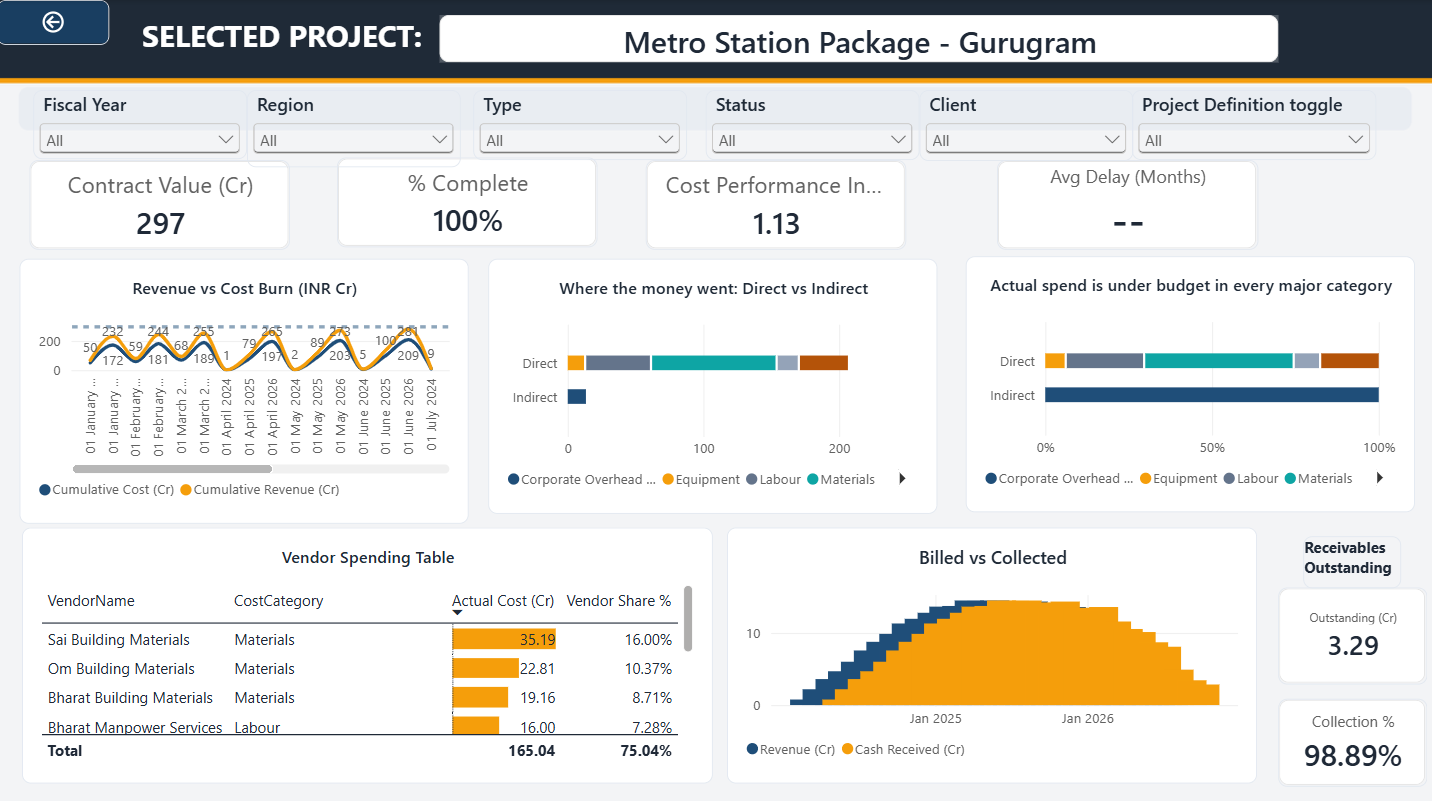

The dashboard page shown, as its layout file describes it:
{"tool":"powerbi","page":{"name":"Project Drill-through","canvas":[1280,720],"ordinal":1},"visuals":[{"type":"cardVisual","fields":{"Data":["_Measures.% Complete"]},"box":[302.5,140,232,80],"z":0},{"type":"cardVisual","fields":{"Data":["_Measures.Contract Value (Cr)"]},"box":[29,142,232,80],"z":1000},{"type":"cardVisual","fields":{"Data":["_Measures.Cost Performance Index"]},"box":[577.5,142.5,232,80],"z":2000},{"type":"cardVisual","fields":{"Data":["_Measures.Avg Delay (Months)"]},"box":[1492.7,126.9,295,80],"z":3000},{"type":"barChart","title":"Where the money went: Direct vs Indirect","fields":{"Category":["DimCostCategory.CostType"],"Series":["DimCostCategory.CostCategory"],"Y":["_Measures.Actual Cost (Cr)"]},"box":[438,230,400,227],"z":4000},{"type":"lineChart","title":"Revenue vs Cost Burn (INR Cr)","fields":{"Category":["DimDate.YearMonth"],"Y":["_Measures.Cumulative Cost (Cr)","_Measures.Cumulative Revenue (Cr)"]},"box":[20,230,400,236],"z":5000},{"type":"tableEx","title":"Vendor Spending Table","fields":{"Values":["DimVendor.VendorName","DimCostCategory.CostCategory","_Measures.Actual Cost (Cr)","_Measures.Vendor Share % "]},"box":[22,470,615,228],"z":6000},{"type":"actionButton","box":[0,0,100,40],"z":7000},{"type":"barChart","title":"Budget and Actual Cost by Category","fields":{"Category":["DimCostCategory.CostCategory"],"Y":["_Measures.Budget","_Measures.Actual Cost"]},"box":[1292.3,220.2,537.8,449.4],"z":8000},{"type":"cardVisual","fields":{"Data":["_Measures.Outstanding (Cr)"]},"box":[1587.9,761.3,246.3,112],"z":9000},{"type":"cardVisual","fields":{"Data":["_Measures.Collection %"]},"box":[1587.9,893.8,246.3,112],"z":10000},{"type":"clusteredColumnChart","title":"Billed vs Collected","fields":{"Category":["DimDate.YearMonth"],"Y":["_Measures.Revenue (Cr)","_Measures.Cash Received (Cr)"]},"box":[650,469.8,472.1,227.9],"z":11000},{"type":"textbox","box":[1584.1,720.2,246.3,41],"z":12000},{"type":"cardVisual","fields":{"Data":["_Measures.Selected Project"]},"box":[393.8,13.8,747.5,42.5],"z":13000},{"type":"textbox","box":[89.3,13.3,351.1,51.9],"z":14000},{"type":"slicer","fields":{"Values":["DimDate.FiscalYear"]},"box":[32.6,79.6,190,61.5],"z":15000},{"type":"slicer","fields":{"Values":["DimProject.Region"]},"box":[223,80,190,69],"z":16000},{"type":"cardVisual","fields":{"Data":["_Measures.Avg Delay (Months)"]},"box":[890,142.5,232.5,80],"z":17000},{"type":"cardVisual","fields":{"Data":["_Measures.Outstanding (Cr)"]},"box":[1141.2,523.8,132.5,86.2],"z":18000},{"type":"slicer","fields":{"Values":["DimProject.ProjectType"]},"box":[423.8,80,190,62.5],"z":19000},{"type":"slicer","fields":{"Values":["DimProject.Status"]},"box":[631.2,80,190,62.5],"z":20000},{"type":"slicer","fields":{"Values":["DimProject.Client"]},"box":[821.2,80,190,63],"z":21000},{"type":"slicer","fields":{"Values":["ProfitDef.Definition"]},"box":[1011.2,80,217.5,62.5],"z":22000},{"type":"cardVisual","fields":{"Data":["_Measures.Collection %"]},"box":[1141.2,622.5,132.5,78.8],"z":23000},{"type":"hundredPercentStackedBarChart","title":"Actual spend is under budget in every major category","fields":{"Category":["DimCostCategory.CostType"],"Series":["DimCostCategory.CostCategory"],"Y":["_Measures.Actual Cost (Cr)"]},"box":[863,228,400,228],"z":24000},{"type":"textbox","box":[1163.8,477.5,87.5,46.2],"z":25000}]}

Visuals, with their boxes in screenshot pixels (x1, y1, x2, y2), scaled from the page's 1280x720 canvas onto the 1432x801 screenshot:
cardVisual - _Measures.% Complete: (338, 156, 598, 245)
cardVisual - _Measures.Contract Value (Cr): (32, 158, 292, 247)
cardVisual - _Measures.Cost Performance Index: (646, 159, 906, 248)
"Where the money went: Direct vs Indirect" barChart: (490, 256, 938, 508)
"Revenue vs Cost Burn (INR Cr)" lineChart: (22, 256, 470, 518)
"Vendor Spending Table" tableEx: (25, 523, 713, 777)
actionButton: (0, 0, 112, 44)
"Billed vs Collected" clusteredColumnChart: (727, 523, 1255, 776)
cardVisual - _Measures.Selected Project: (441, 15, 1277, 63)
textbox: (100, 15, 493, 73)
slicer - DimDate.FiscalYear: (36, 89, 249, 157)
slicer - DimProject.Region: (249, 89, 462, 166)
cardVisual - _Measures.Avg Delay (Months): (996, 159, 1256, 248)
cardVisual - _Measures.Outstanding (Cr): (1277, 583, 1425, 679)
slicer - DimProject.ProjectType: (474, 89, 687, 159)
slicer - DimProject.Status: (706, 89, 919, 159)
slicer - DimProject.Client: (919, 89, 1131, 159)
slicer - ProfitDef.Definition: (1131, 89, 1375, 159)
cardVisual - _Measures.Collection %: (1277, 693, 1425, 780)
"Actual spend is under budget in every major category" hundredPercentStackedBarChart: (965, 254, 1413, 507)
textbox: (1302, 531, 1400, 583)
